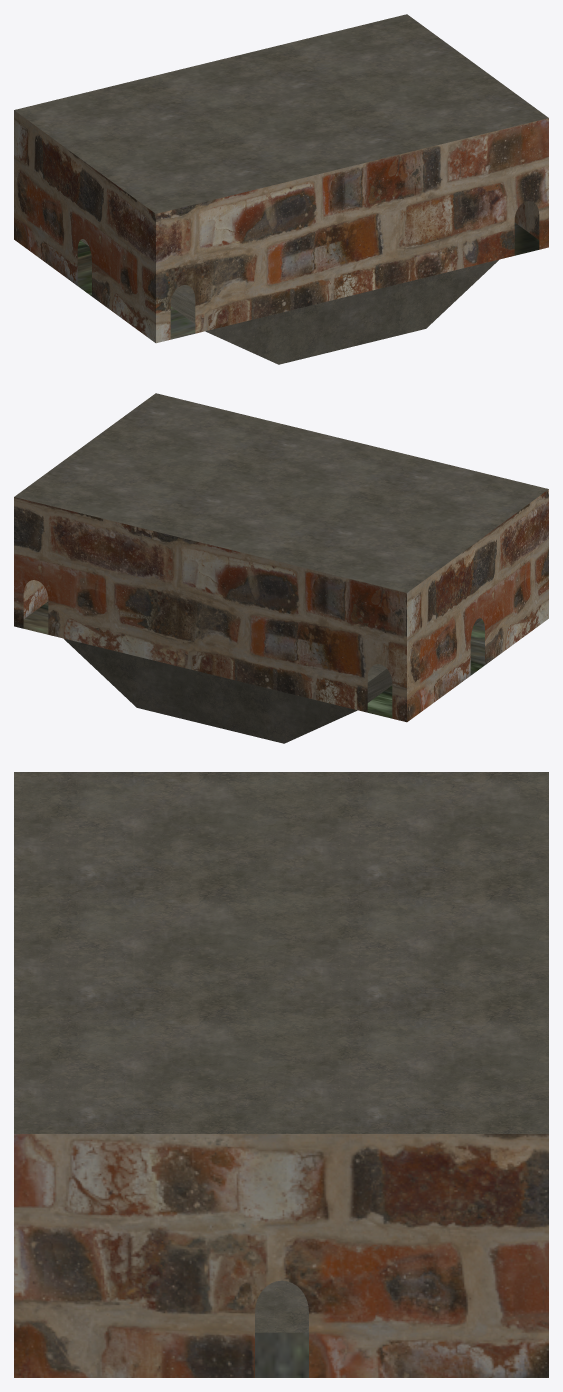
The model's file is tunnel pool rooms.fbx.
The picture shows the model from 3 angles, top to bottom: view 1: azimuth 30°, elevation 25°; view 2: azimuth 150°, elevation 25°; view 3: azimuth 270°, elevation 25°; orthographic projection. The views are drawn at different scales.
Visible parts, largest first — view 1: pool room, pool room roof, pool room pool, pool room walkways; view 2: pool room, pool room roof, pool room pool, pool room walkways; view 3: pool room roof, pool room, pool room walkways, pool room pool.
Part boxes in pixels (x1=…): pool room: x1=14, y1=110, x2=548, y2=343; pool room roof: x1=14, y1=14, x2=548, y2=213; pool room pool: x1=80, y1=239, x2=498, y2=364; pool room walkways: x1=77, y1=222, x2=539, y2=339; pool room: x1=14, y1=489, x2=548, y2=722; pool room roof: x1=14, y1=393, x2=548, y2=592; pool room pool: x1=64, y1=618, x2=481, y2=743; pool room walkways: x1=23, y1=601, x2=484, y2=718; pool room roof: x1=14, y1=772, x2=548, y2=1133; pool room: x1=14, y1=1134, x2=548, y2=1377; pool room walkways: x1=255, y1=1332, x2=308, y2=1377; pool room pool: x1=255, y1=1280, x2=308, y2=1332.
Size of the model in its own units: 1600 by 1000 by 703.
